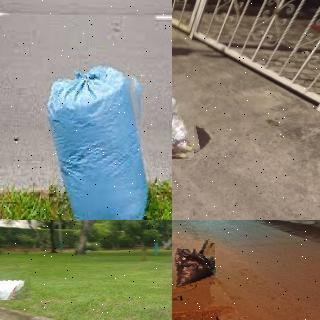Garbage: (41, 60, 155, 220), (172, 77, 197, 163), (172, 241, 216, 286), (0, 270, 31, 303)
